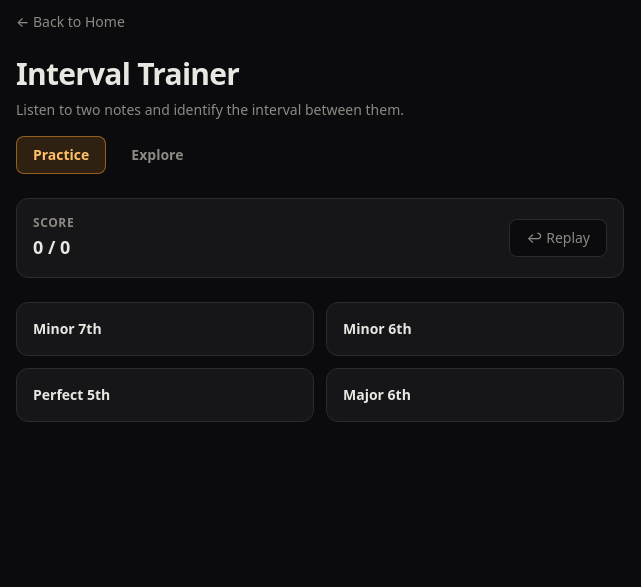
Scenario: IntervalTrainer › mode toggle › clicking an interval button selects it and updates the displayed interval
What coordinates should you click on to do the following:
click the button "Explore"
I would click on:
 (157, 155)
Its box is [114,136,200,174].
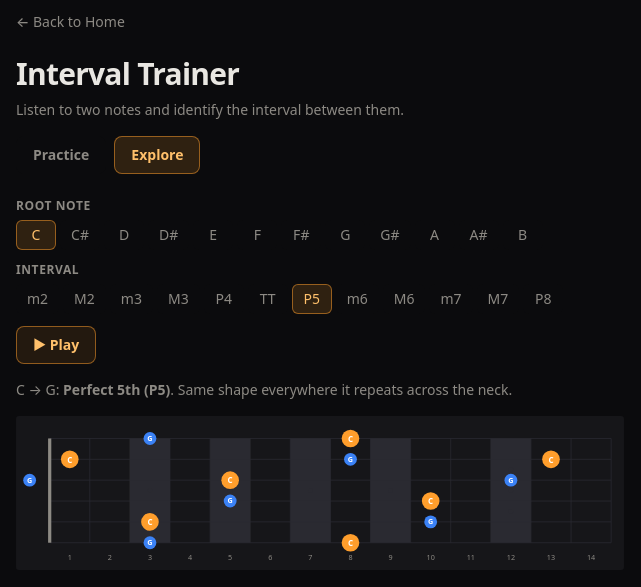
What coordinates should you click on to do the following:
click the radio button named "Interval Major 3rd"
I would click on:
 (178, 299)
Its box is [157,284,200,314].
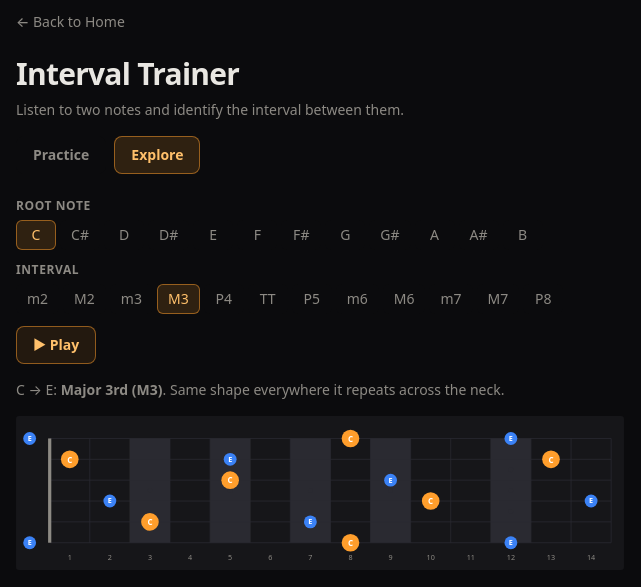
Expected: the text "Major 3rd" is shown, [61,380,163,399]
